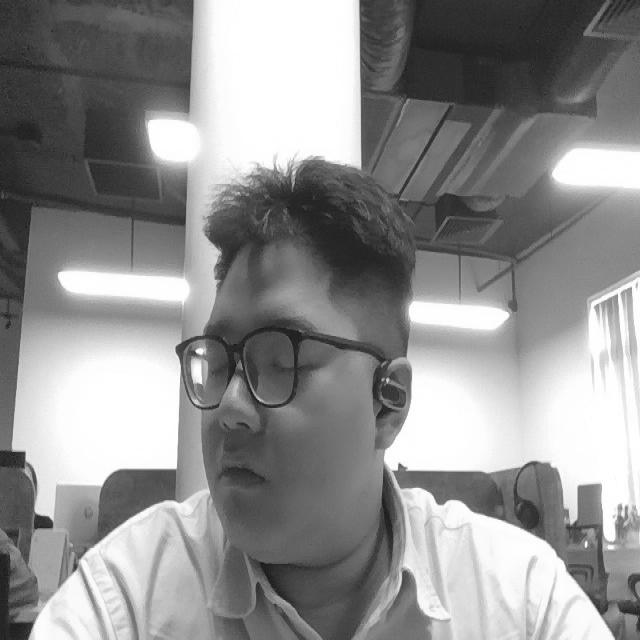real: (166, 145, 424, 596), (195, 330, 371, 396)
